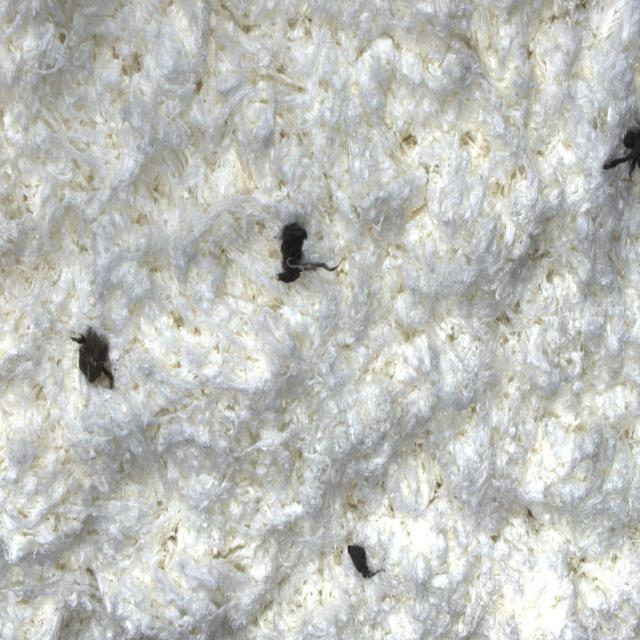dust: (275, 219, 347, 291), (69, 320, 121, 390), (594, 121, 640, 190), (343, 536, 385, 582)
